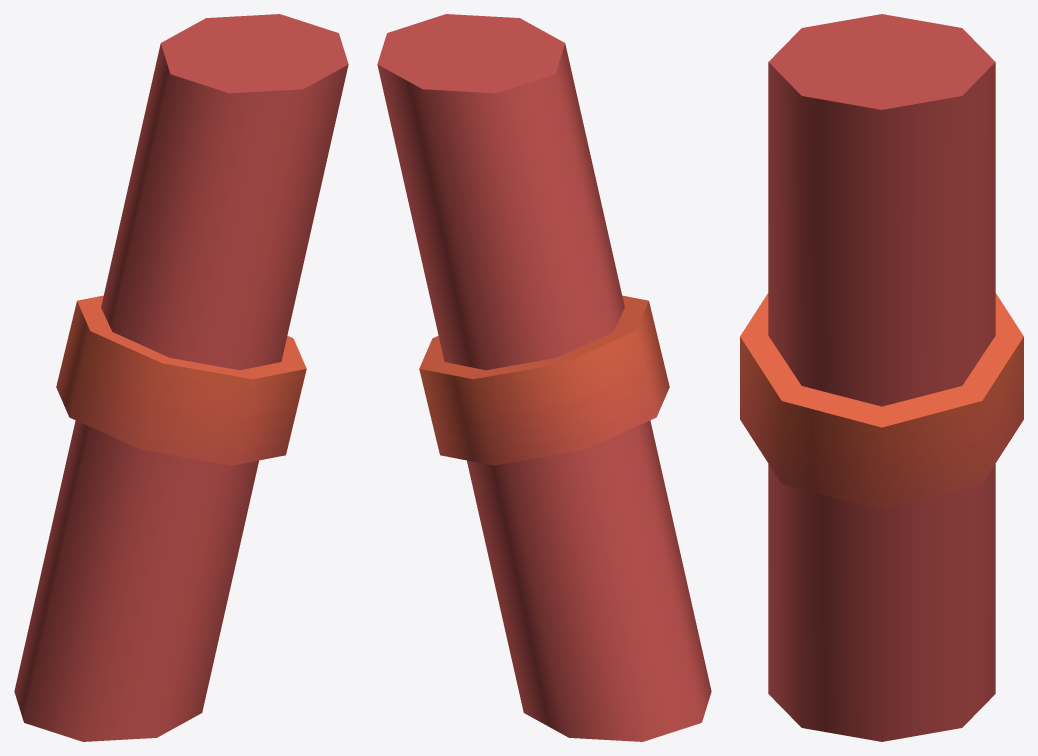
File: kenney-coaster-support-small-skew.glb
3 renders of one model, left to right at view 1: azimuth 30°, elevation 25°; view 2: azimuth 150°, elevation 25°; view 3: azimuth 270°, elevation 25°, orthographic. The views are drawn at different scales.
Visible parts, largest first — view 1: support-small-skew; view 2: support-small-skew; view 3: support-small-skew.
Part boxes in pixels (x1=…): support-small-skew: x1=14, y1=14, x2=348, y2=741; support-small-skew: x1=377, y1=14, x2=711, y2=741; support-small-skew: x1=740, y1=14, x2=1023, y2=741.
Size of the model in its own units: 0.5377 by 1 by 0.3595.
Materials: 1 (1 with a texture image).
